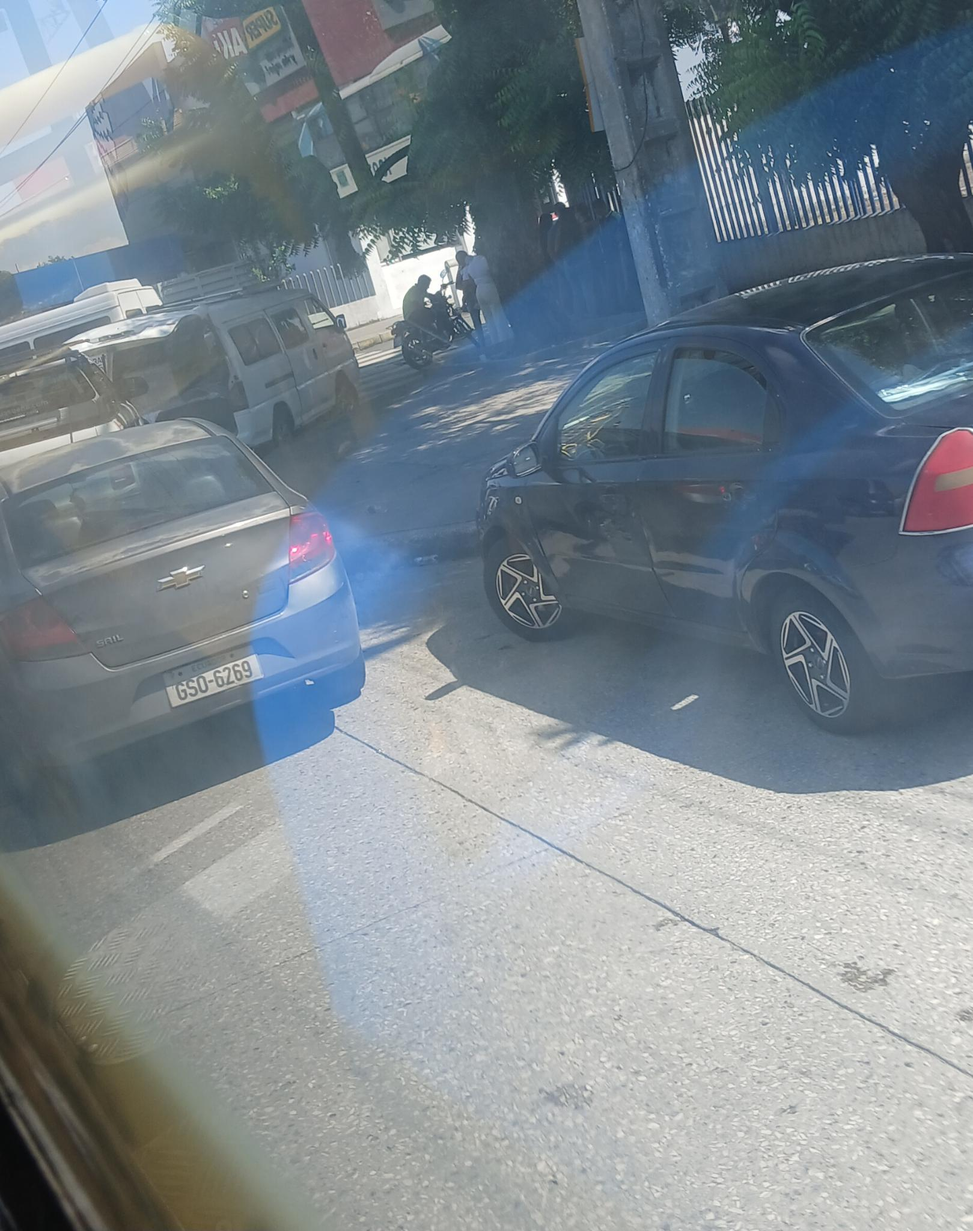license_plate: (164, 655, 260, 709)
